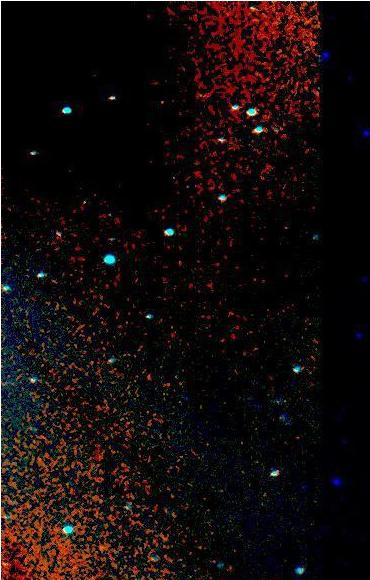star: (0, 548, 20, 578)
